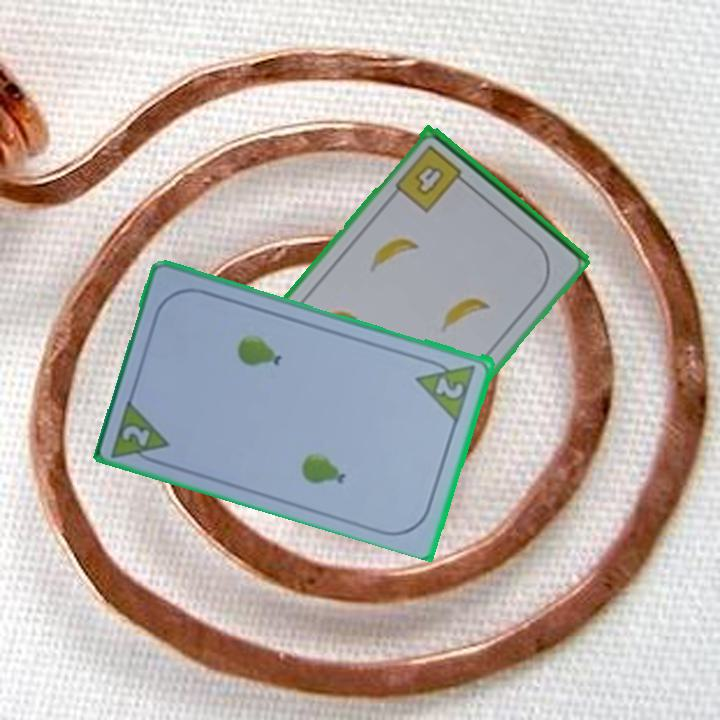2p: (413, 353, 480, 423), (118, 421, 154, 449)
4b: (391, 141, 472, 216)
